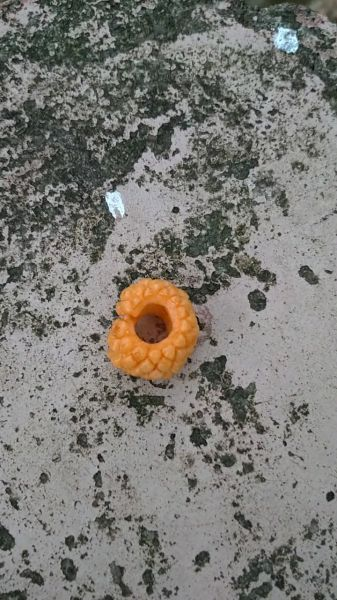eggs: (102, 268, 202, 380)
